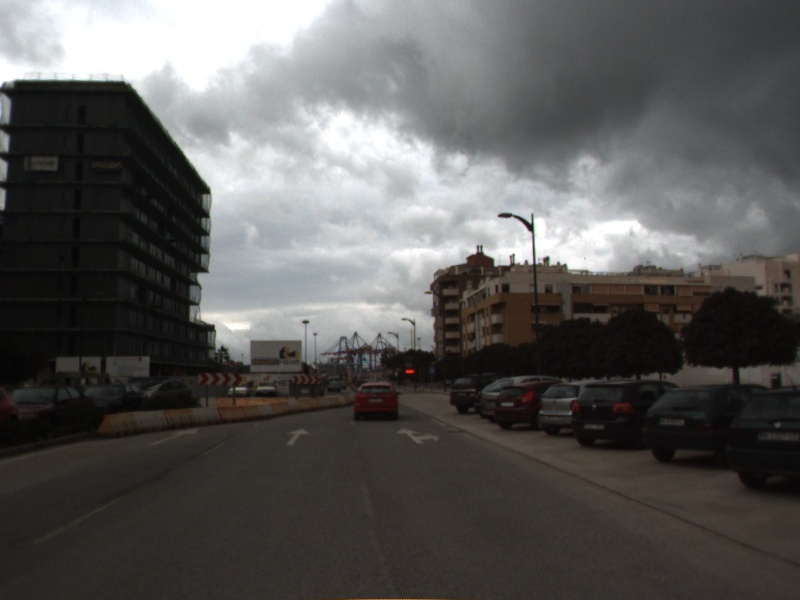STRAIGHT: (145, 426, 199, 448), (284, 426, 313, 447)
STRAIGHT_RIGHT: (395, 425, 442, 445)
